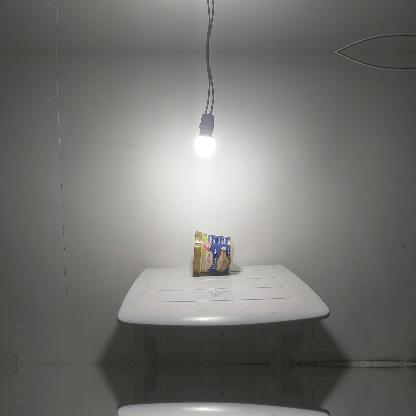Lady-s-Choice: (192, 230, 234, 276)
